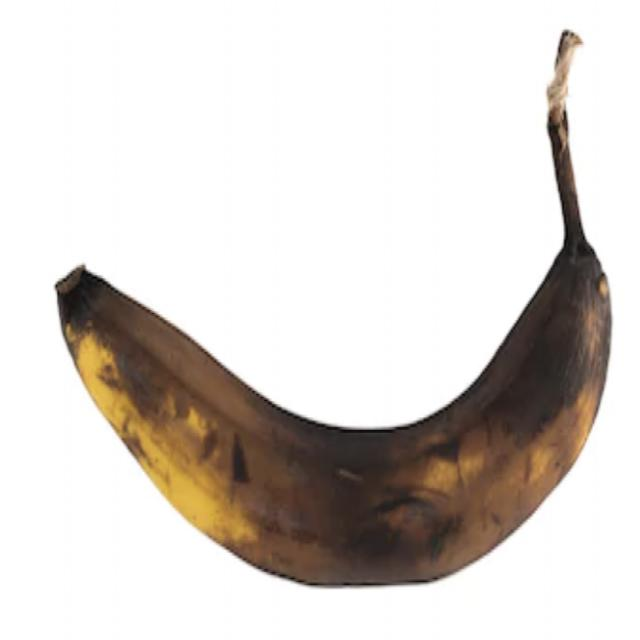rotten-banana: (56, 154, 612, 589)
